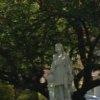Statue: (39, 32, 82, 94)
